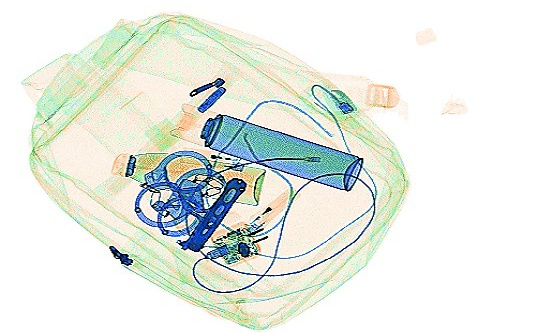handcuffs: (132, 147, 229, 239)
knife: (173, 174, 248, 253)
lighter: (242, 182, 301, 235), (183, 144, 246, 172), (206, 214, 260, 244)
pressure: (165, 97, 365, 193), (109, 149, 267, 208)
